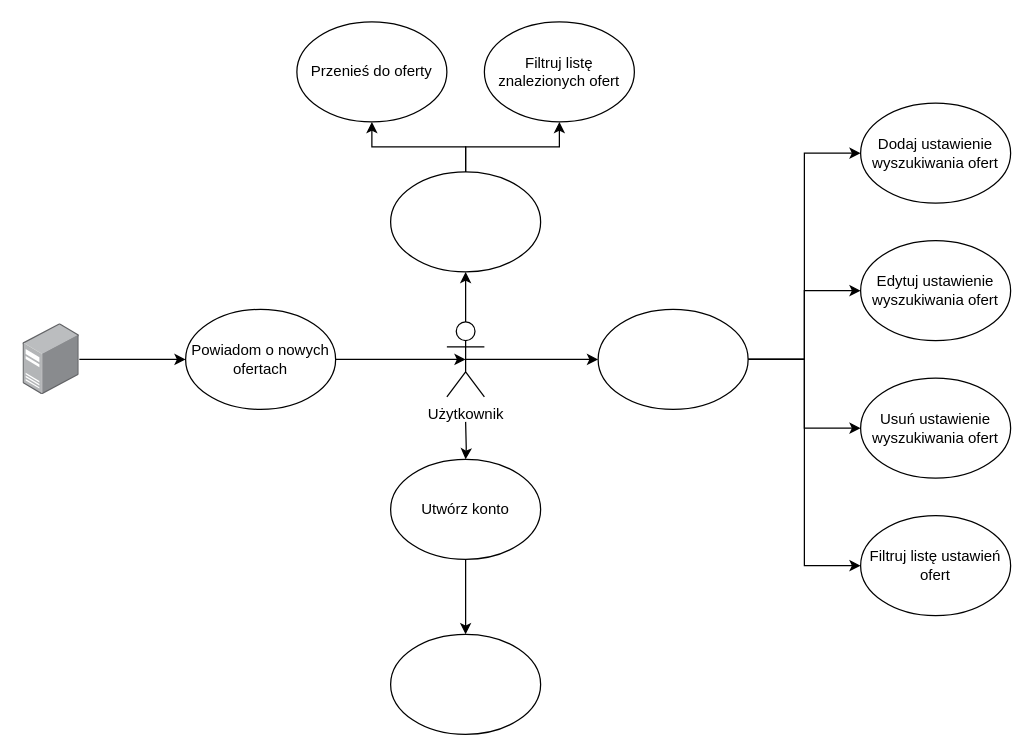
Some shapes in this 1033 by 756 pixel diagram are drawn without their labels. The box of each missing label's shape, as (x1, y1, x2, y2) in pixels:
Aplikacja: (22, 323, 79, 394)
Wyświetl listę ustawień ofert do wyszukania: (597, 308, 748, 409)
Wyświetl listę znalezionych ofert: (389, 171, 541, 272)
Zmień hasło: (389, 633, 541, 734)
